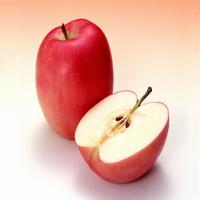apple: (65, 86, 178, 184), (34, 17, 116, 141)
